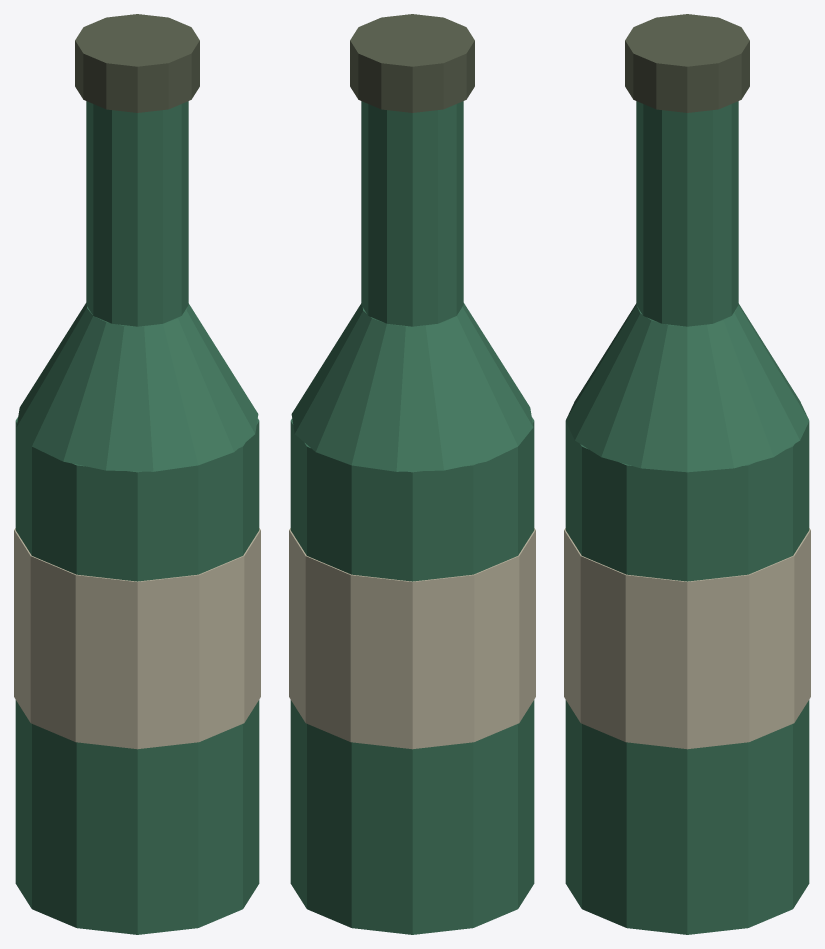
Rendered from bottle.glb.
3 views of the same model, side by side, from view 1: azimuth 30°, elevation 25°; view 2: azimuth 150°, elevation 25°; view 3: azimuth 270°, elevation 25° (orthographic).
Parts seen in each view (by area): view 1: geometry_0; view 2: geometry_0; view 3: geometry_0.
Boxes of the visible parts, box(x1,y1,x2,y2) form: geometry_0: box(14, 14, 260, 934); geometry_0: box(289, 14, 535, 934); geometry_0: box(564, 14, 810, 934).
Bounding box in the file's own units: 0.087 × 0.328 × 0.087.
